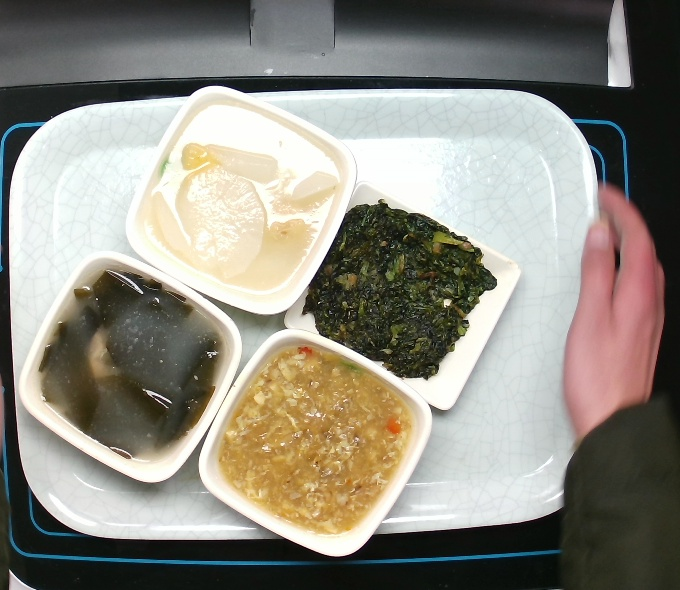wcq-HaiDaiPaiGuTang: (36, 269, 235, 466)
wcq-LuoBoYouPaoTang: (142, 96, 338, 301)
wcq-QinCaiBing: (306, 200, 498, 380)
wcq-SuanLaGeng: (216, 346, 417, 533)
